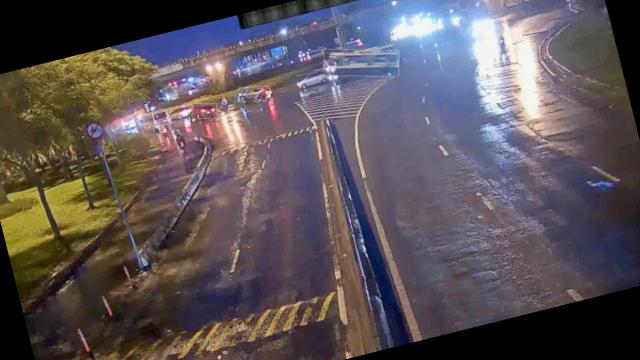Bike: (174, 129, 188, 152)
Bus: (320, 36, 402, 89)
Car: (296, 68, 334, 92), (238, 81, 272, 105), (190, 99, 220, 123)
